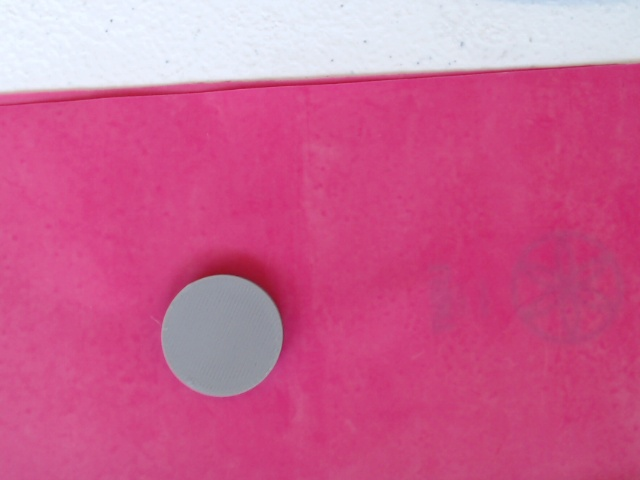NonDefective: (158, 273, 286, 402)
